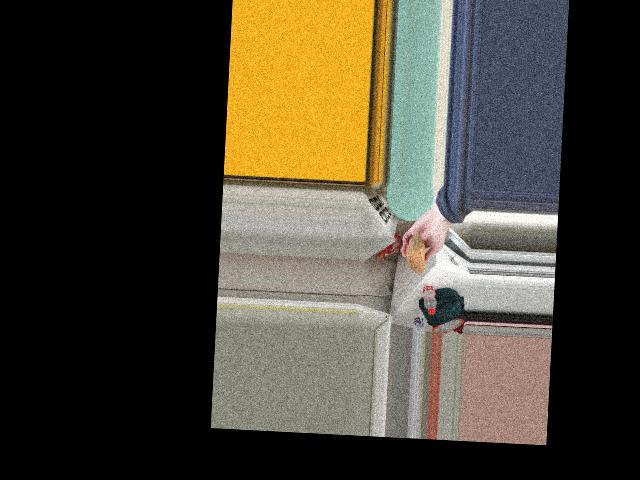sweet_potato: (407, 229, 429, 276)
